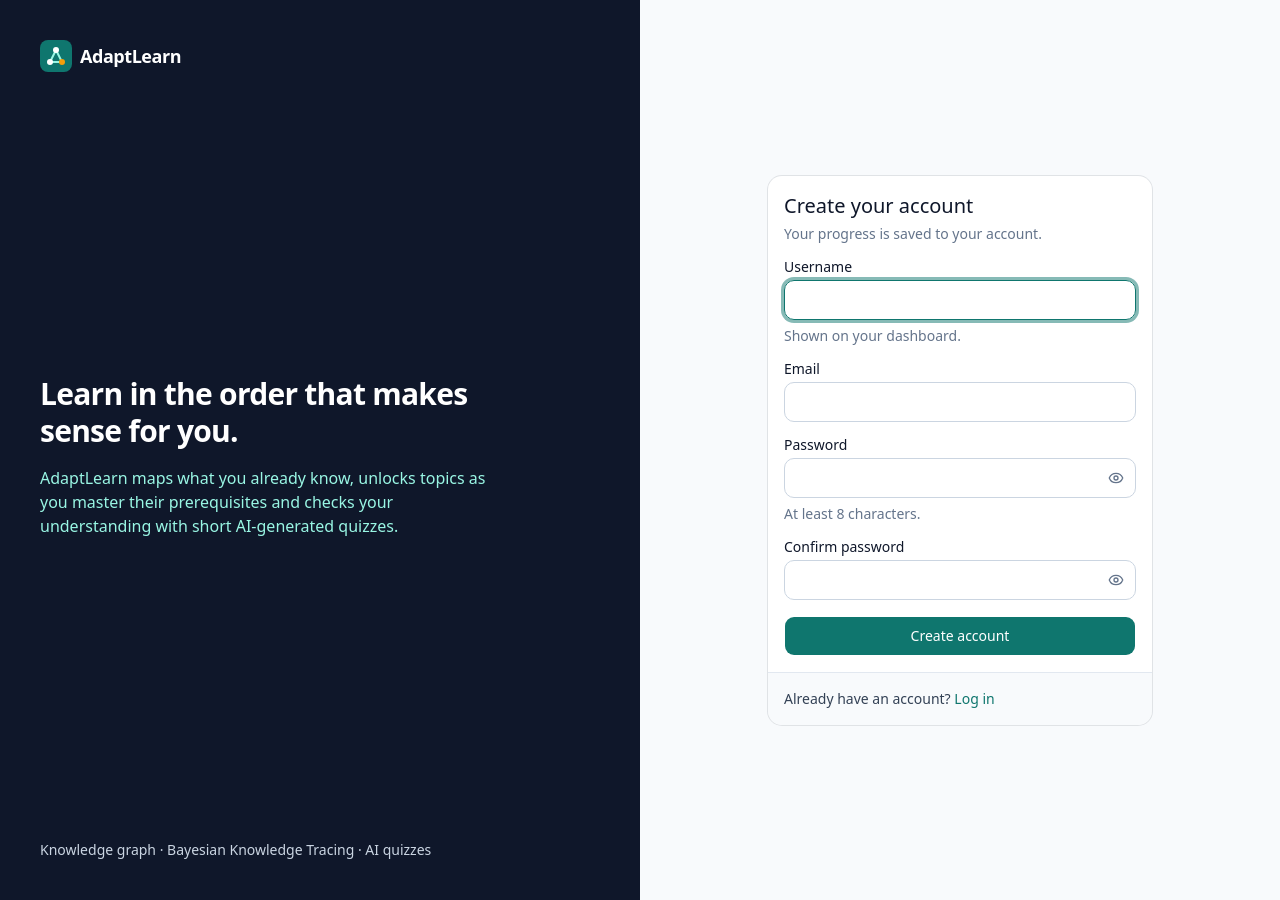
it: form › reports every problem before sending anything
Check: the form named "Create account" is shown, box [784,260,1136,656]
Click the button "Create account": [960, 636] box [784,616,1136,656]
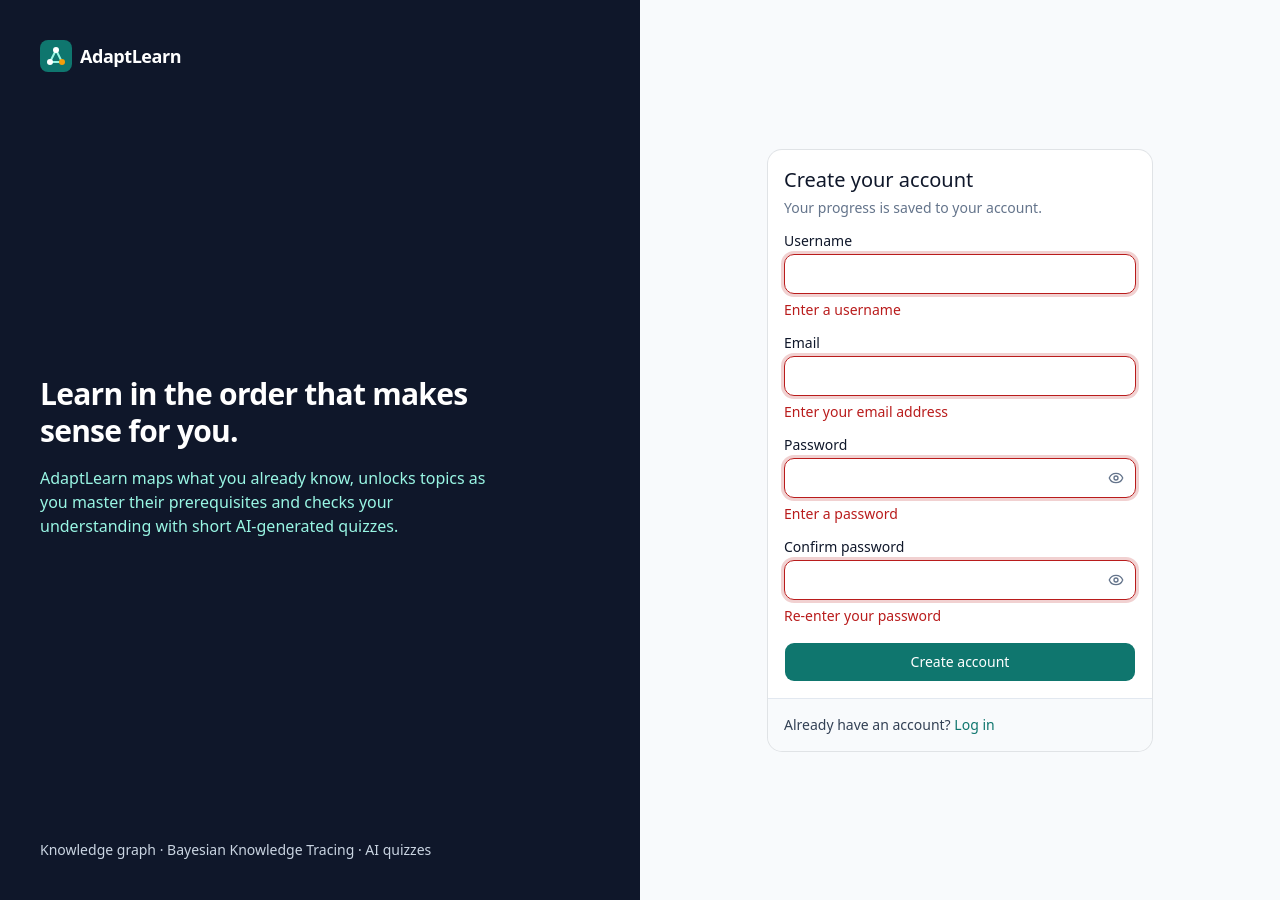
Check: the text "Enter a username" is shown, box [784,300,901,318]
Check: the text "Enter your email address" is shown, box [784,402,948,420]
Check: the text "Enter a password" is shown, box [784,504,898,522]
